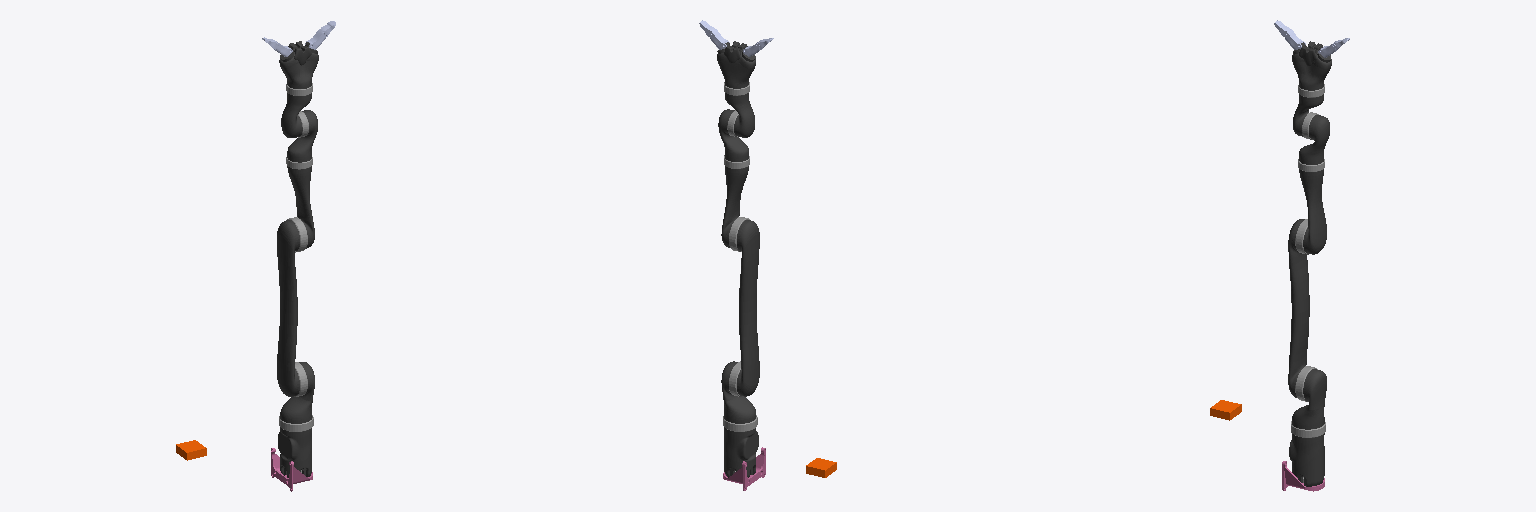
--- Facts derived from the render (not from the file) ---
Views: 3 orthographic renders of the robot side by side, from view 1: azimuth 30°, elevation 25°; view 2: azimuth 150°, elevation 25°; view 3: azimuth 330°, elevation 25°.
Robot: anymal — 36 links, 35 joints (18 revolute, 17 fixed); root link base; default pose: joints at zero except 3 at the middle of their limits (j2s6s200_joint_2 = 3.14, j2s6s200_joint_3 = 3.14, j2s6s200_joint_5 = 3.14).
Visible links, largest first — view 1: j2s6s200_link_2, j2s6s200_link_6, j2s6s200_link_3, j2s6s200_link_base, j2s6s200_link_1, j2s6s200_link_5, j2s6s200_link_4, jaco_front_hatch_support_v2; view 2: j2s6s200_link_2, j2s6s200_link_6, j2s6s200_link_base, j2s6s200_link_3, j2s6s200_link_1, j2s6s200_link_5, j2s6s200_link_4, jaco_front_hatch_support_v2; view 3: j2s6s200_link_2, j2s6s200_link_3, j2s6s200_link_1, j2s6s200_link_6, j2s6s200_link_base, j2s6s200_link_4, j2s6s200_link_5.
Link boxes in pixels (bbox=[...]): j2s6s200_link_2: bbox=[277, 220, 307, 396]; j2s6s200_link_6: bbox=[279, 41, 318, 95]; j2s6s200_link_3: bbox=[286, 166, 314, 252]; j2s6s200_link_base: bbox=[278, 427, 311, 477]; j2s6s200_link_1: bbox=[279, 362, 314, 431]; j2s6s200_link_5: bbox=[281, 93, 311, 137]; j2s6s200_link_4: bbox=[286, 110, 317, 169]; jaco_front_hatch_support_v2: bbox=[271, 448, 312, 491]; j2s6s200_link_2: bbox=[729, 220, 759, 396]; j2s6s200_link_6: bbox=[717, 41, 755, 95]; j2s6s200_link_base: bbox=[724, 427, 758, 477]; j2s6s200_link_3: bbox=[721, 166, 749, 251]; j2s6s200_link_1: bbox=[721, 361, 757, 431]; j2s6s200_link_5: bbox=[725, 93, 754, 137]; j2s6s200_link_4: bbox=[718, 109, 749, 168]; jaco_front_hatch_support_v2: bbox=[723, 447, 765, 490]; j2s6s200_link_2: bbox=[1288, 219, 1317, 401]; j2s6s200_link_3: bbox=[1295, 169, 1326, 254]; j2s6s200_link_1: bbox=[1291, 369, 1326, 437]; j2s6s200_link_6: bbox=[1292, 41, 1331, 97]; j2s6s200_link_base: bbox=[1289, 433, 1324, 486]; j2s6s200_link_4: bbox=[1298, 115, 1329, 171]; j2s6s200_link_5: bbox=[1293, 94, 1323, 139].
Size in the robot's own frame: 0.4211 by 0.1459 by 1.28 metres.
19 mesh visuals loaded from 20 distinct referenced files (13 Collada DAE); not drawn: 17 (reference not matched to a file when rendering).

robot.urdf — anymal:
<?xml version="1.0" ?>
<!-- =================================================================================== -->
<!-- |    This URDF was edited to fix inertias.                                        | -->
<!-- =================================================================================== -->
<!-- This file contains the description of the ANYmal B robot. -->
<robot name="anymal" 
  xmlns:xacro="http://www.ros.org/wiki/xacro">
  <material name="black">
    <color rgba="0.0 0.0 0.0 1.0"/>
  </material>
  <material name="blue">
    <color rgba="0.0 0.0 0.8 1.0"/>
  </material>
  <material name="green">
    <color rgba="0.0 0.8 0.0 1.0"/>
  </material>
  <material name="grey">
    <color rgba="0.2 0.2 0.2 1.0"/>
  </material>
  <material name="light_grey">
    <color rgba="0.4 0.4 0.4 1.0"/>
  </material>
  <material name="orange">
    <color rgba="1.0 0.423529411765 0.0392156862745 1.0"/>
  </material>
  <material name="brown">
    <color rgba="0.870588235294 0.811764705882 0.764705882353 1.0"/>
  </material>
  <material name="red">
    <color rgba="0.8 0.0 0.0 1.0"/>
  </material>
  <material name="white">
    <color rgba="1.0 1.0 1.0 1.0"/>
  </material>
  <!-- Material for the visual primitives -->
  <material name="anymal_material">
    <color rgba="0.7 0.7 0.7 1."/>
  </material>
  <!-- Xacro:Properties -->
  <!-- [m] -->
  <!-- Base link -->
  <link name="base">
    <visual>
      <origin rpy="0 0 0" xyz="0 0 0"/>
      <geometry>
        <mesh filename="package://anymal_b_simple_description/meshes/base/anymal_base.dae" scale="1 1 1"/>
      </geometry>
      <material name="anymal_material"/>
    </visual>
    <collision>
      <!-- Main Body -->
      <origin rpy="0 0 0" xyz="0 0 0.08"/>
      <geometry>
        <box size="0.531 0.27 0.24"/>
      </geometry>
    </collision>
    <collision>
      <!-- HAA actuators -->
      <origin rpy="0 1.57079632679 0" xyz="0.227 0.116 0"/>
      <geometry>
        <cylinder length="0.1" radius="0.05"/>
      </geometry>
    </collision>
    <collision>
      <origin rpy="0 1.57079632679 0" xyz="0.227 -0.116 0"/>
      <geometry>
        <cylinder length="0.1" radius="0.05"/>
      </geometry>
    </collision>
    <collision>
      <origin rpy="0 1.57079632679 0" xyz="-0.227 0.116 0"/>
      <geometry>
        <cylinder length="0.1" radius="0.05"/>
      </geometry>
    </collision>
    <collision>
      <origin rpy="0 1.57079632679 0" xyz="-0.227 -0.116 0"/>
      <geometry>
        <cylinder length="0.1" radius="0.05"/>
      </geometry>
    </collision>
    <collision>
      <!-- Belly plate front bump -->
      <origin rpy="0 0 0" xyz="0.2155 0.0 -0.09"/>
      <geometry>
        <box size="0.1 0.1 0.07"/>
      </geometry>
    </collision>
    <collision>
      <!-- Belly plate hind bump-->
      <origin rpy="0 0 0" xyz="-0.2155 0.0 -0.09"/>
      <geometry>
        <box size="0.1 0.1 0.07"/>
      </geometry>
    </collision>
    <collision>
      <!-- Belly plate middle bump-->
      <origin rpy="0 0 0" xyz="0 0 -0.09"/>
      <geometry>
        <box size="0.531 0.02 0.07"/>
      </geometry>
    </collision>
    <inertial>
      <origin rpy="0 0 0" xyz="-0.001960558279 -0.001413217745 0.050207125344"/>
      <mass value="16.793507758"/>
      <inertia ixx="0.217391101503" ixy="-0.00132873239126" ixz="-0.00228200226173" iyy="0.639432546734" iyz="-0.00138078263145" izz="0.62414077654"/>
    </inertial>
  </link>
  <!-- Fixed joint to add dummy inertia link -->
  <!-- <joint name="base_to_base_inertia" type="fixed">
    <parent link="base"/>
    <child link="base_inertia"/>
    <origin rpy="0 0 0" xyz="0 0 0"/>
  </joint> -->
  <!-- Dummy inertia link, because KDL cannot have inertia on the base link -->
  <!-- <link name="base_inertia">
    <inertial>
      <origin rpy="0 0 0" xyz="-0.001960558279 -0.001413217745 0.050207125344"/>
      <mass value="16.793507758"/>
      <inertia ixx="0.217391101503" ixy="-0.00132873239126" ixz="-0.00228200226173" iyy="0.639432546734" iyz="-0.00138078263145" izz="0.62414077654"/>
    </inertial>
  </link> -->
  <!-- Xacro:Properties -->
  <!-- [kg * m^2] -->
  <!-- [A] -->
  <link name="LF_HIP">
    <visual>
      <origin rpy="0 0 0.0" xyz="0 0 0"/>
      <geometry>
        <mesh filename="package://anymal_b_simple_description/meshes/hip/anymal_hip_l.dae" scale="1 1 1"/>
      </geometry>
      <material name="anymal_material"/>
    </visual>
    <collision>
      <!-- Protector -->
      <origin rpy="1.57079632679 0 0" xyz="0.0635 -0.009 0.0"/>
      <geometry>
        <cylinder length="0.1" radius="0.08"/>
      </geometry>
    </collision>
    <collision>
      <!-- Heatfins -->
      <origin rpy="1.57079632679 0 0" xyz="0.0635 -0.074 0.0"/>
      <geometry>
        <cylinder length="0.03" radius="0.045"/>
      </geometry>
    </collision>
    <inertial>
      <origin rpy="0 0 0" xyz="0.064516258147 -0.003787101702 -0.000152184388"/>
      <mass value="1.42462064"/>
      <inertia ixx="0.00243023349564" ixy="-1.53023971e-05" ixz="-2.1819095354e-05" iyy="0.00230257239103" iyz="2.6473021273e-05" izz="0.0019806759227"/>
    </inertial>
  </link>
  <!-- Hip joint -->
  <joint name="LF_HAA" type="revolute">
    <parent link="base"/>
    <child link="LF_HIP"/>
    <origin xyz="0.277 0.116 0.0"/>
    <axis xyz="1 0 0"/>
    <limit command_effort="40" current="10" effort="80" gear_velocity="10" lower="-9.42" upper="9.42" velocity="15"/>
    <dynamics damping="0.0" friction="0.0"/>
  </joint>
  <!-- Xacro:Properties -->
  <!-- [m] -->
  <!-- [A] -->
  <link name="LF_THIGH">
    <visual>
      <origin rpy="0 0 0" xyz="0 0 0"/>
      <geometry>
        <mesh filename="package://anymal_b_simple_description/meshes/thigh/anymal_thigh.dae" scale="1 1 1"/>
      </geometry>
      <material name="anymal_material"/>
    </visual>
    <collision>
      <!-- thigh with heat fins -->
      <origin rpy="0.145 0 0" xyz="0 0.035 -0.125"/>
      <geometry>
        <box size="0.08 0.04 0.25"/>
      </geometry>
    </collision>
    <collision>
      <!-- KFE actuator -->
      <origin rpy="1.57079632679 0 0" xyz="0.0 0.069 -0.25"/>
      <geometry>
        <cylinder length="0.12" radius="0.06"/>
      </geometry>
    </collision>
    <collision>
      <!-- upper protector -->
      <origin rpy="1.71579632679 0 0" xyz="0 -0.005 0"/>
      <geometry>
        <cylinder length="0.12" radius="0.066"/>
      </geometry>
    </collision>
    <inertial>
      <origin rpy="0 0 0" xyz="-0.003897968082 0.054226618537 -0.214583373795"/>
      <mass value="1.634976467"/>
      <inertia ixx="0.0120367944369" ixy="6.762065206e-05" ixz="0.000287806340448" iyy="0.0120643637939" iyz="-0.00140610131218" izz="0.00249422574881"/>
    </inertial>
  </link>
  <!-- Thigh joint -->
  <joint name="LF_HFE" type="revolute">
    <parent link="LF_HIP"/>
    <child link="LF_THIGH"/>
    <origin xyz="0.0635                    0.041                    0.0"/>
    <axis xyz="0 1 0"/>
    <limit command_effort="40" current="10" effort="80" gear_velocity="10" lower="-9.42" upper="9.42" velocity="15.0"/>
    <dynamics damping="0.0" friction="0.0"/>
  </joint>
  <!-- Xacro:Properties -->
  <!-- [m] -->
  <!-- [A] -->
  <link name="LF_SHANK">
    <visual>
      <origin rpy="0 0 0.0" xyz="0 0 0"/>
      <geometry>
        <mesh filename="package://anymal_b_simple_description/meshes/shank/anymal_shank_l.dae" scale="1 1 1"/>
      </geometry>
      <material name="anymal_material"/>
    </visual>
    <collision>
      <origin rpy="0 1.57079632679 0" xyz="0.065 -0.015 0.01"/>
      <geometry>
        <box size="0.08 0.07 0.13"/>
      </geometry>
    </collision>
    <inertial>
      <origin rpy="0 0 0" xyz="0.030816858139 -0.004617229294 0.000893125713"/>
      <mass value="0.207204302"/>
      <inertia ixx="0.0002104880248" ixy="-5.6750980345e-05" ixz="1.0127699391e-05" iyy="0.000676270210023" iyz="-8.22869024e-07" izz="0.000545032674924"/>
    </inertial>
  </link>
  <!-- Shank joint -->
  <joint name="LF_KFE" type="revolute">
    <parent link="LF_THIGH"/>
    <child link="LF_SHANK"/>
    <origin xyz="0.0 0.109 -0.25"/>
    <axis xyz="0 1 0"/>
    <limit command_effort="40" current="10" effort="80" gear_velocity="10" lower="-9.42" upper="9.42" velocity="15.0"/>
    <dynamics damping="0.0" friction="0.0"/>
  </joint>
  <!-- Xacro:Properties -->
  <!-- [m] -->
  <!-- Shank to Adapter joint -->
  <joint name="LF_SHANK_TO_ADAPTER" type="fixed">
    <parent link="LF_SHANK"/>
    <child link="LF_ADAPTER"/>
    <origin rpy="0.0 0.0 0.0" xyz="0.1 -0.02 0.0"/>
  </joint>
  <!-- Adapter link -->
  <link name="LF_ADAPTER">
    <visual>
      <origin rpy="0 0 0" xyz="0 0 0.032"/>
      <geometry>
        <mesh filename="package://anymal_b_simple_description/meshes/foot/anymal_foot.dae" scale="1 1 1"/>
      </geometry>
      <material name="anymal_material"/>
    </visual>
    <collision>
      <origin rpy="0 0 0" xyz="0 0 -0.160625"/>
      <geometry>
        <cylinder length="0.32125" radius="0.015"/>
      </geometry>
      <material name="anymal_material"/>
    </collision>
    <inertial>
      <origin rpy="0 0 0" xyz="-8.66e-10 -1.472e-09 -0.244345749188"/>
      <mass value="0.140170767"/>
      <inertia ixx="0.00159938741862" ixy="-9.32e-13" ixz="1.039e-11" iyy="0.00159938741932" iyz="1.7563e-11" izz="5.4423177329e-05"/>
    </inertial>
  </link>
  <!-- Adapter to Foot joint -->
  <joint name="LF_ADAPTER_TO_FOOT" type="fixed">
    <parent link="LF_ADAPTER"/>
    <child link="LF_FOOT"/>
    <origin rpy="0.0 0.0 0.0" xyz="0.0 0.0 -0.32125"/>
  </joint>
  <!-- Foot link -->
  <link name="LF_FOOT">
    <collision>
      <origin xyz="0 0 0.02325"/>
      <geometry>
        <sphere radius="0.031"/>
      </geometry>
    </collision>
    <inertial>
      <mass value="0.001"/>
      <inertia ixx="4.90e-07" ixy="0.0" ixz="0.0" iyy="4.90e-07" iyz="0.0" izz="4.90e-07"/>
      <!-- for a sphere: 2/5 m * r**2 -->
    </inertial>
    <!-- Bullet specific parameters -->
    <contact>
      <lateral_friction value="1.0"/>
      <stiffness value="300000"/>
      <damping value="15000"/>
      <!--<restitution value="0.5"/>-->
    </contact>
  </link>
  <!-- Gazebo customization -->
  <gazebo reference="LF_FOOT">
    <kp>1000000.0</kp>
    <kd>100.0</kd>
    <mu1>0.8</mu1>
    <mu2>0.8</mu2>
  </gazebo>
  <!-- Xacro:Properties -->
  <!-- [kg * m^2] -->
  <!-- [A] -->
  <link name="RF_HIP">
    <visual>
      <origin rpy="0 0 0" xyz="0 0 0"/>
      <geometry>
        <mesh filename="package://anymal_b_simple_description/meshes/hip/anymal_hip_r.dae" scale="1 1 1"/>
      </geometry>
      <material name="anymal_material"/>
    </visual>
    <collision>
      <!-- Protector -->
      <origin rpy="1.57079632679 0 0" xyz="0.0635 0.009 0.0"/>
      <geometry>
        <cylinder length="0.1" radius="0.08"/>
      </geometry>
    </collision>
    <collision>
      <!-- Heatfins -->
      <origin rpy="1.57079632679 0 0" xyz="0.0635 0.074 0.0"/>
      <geometry>
        <cylinder length="0.03" radius="0.045"/>
      </geometry>
    </collision>
    <inertial>
      <origin rpy="0 0 0" xyz="0.064516258147 0.003787101702 -0.000152184388"/>
      <mass value="1.42462064"/>
      <inertia ixx="0.00243023349564" ixy="1.53023971e-05" ixz="-2.1819095354e-05" iyy="0.00230257239103" iyz="-2.6473021273e-05" izz="0.0019806759227"/>
    </inertial>
  </link>
  <!-- Hip joint -->
  <joint name="RF_HAA" type="revolute">
    <parent link="base"/>
    <child link="RF_HIP"/>
    <origin xyz="0.277 -0.116 0.0"/>
    <axis xyz="1 0 0"/>
    <limit command_effort="40" current="10" effort="80" gear_velocity="10" lower="-9.42" upper="9.42" velocity="15"/>
    <dynamics damping="0.0" friction="0.0"/>
  </joint>
  <!-- Xacro:Properties -->
  <!-- [m] -->
  <!-- [A] -->
  <link name="RF_THIGH">
    <visual>
      <origin rpy="3.1416 3.1416 0.0" xyz="0 0 0"/>
      <geometry>
        <mesh filename="package://anymal_b_simple_description/meshes/thigh/anymal_thigh.dae" scale="1 1 1"/>
      </geometry>
      <material name="anymal_material"/>
    </visual>
    <collision>
      <!-- thigh with heat fins -->
      <origin rpy="-0.145 0 0" xyz="0 -0.035 -0.125"/>
      <geometry>
        <box size="0.08 0.04 0.25"/>
      </geometry>
    </collision>
    <collision>
      <!-- KFE actuator -->
      <origin rpy="1.57079632679 0 0" xyz="0.0 -0.069 -0.25"/>
      <geometry>
        <cylinder length="0.12" radius="0.06"/>
      </geometry>
    </collision>
    <collision>
      <!-- upper protector -->
      <origin rpy="-1.71579632679 0 0" xyz="0 0.005 0"/>
      <geometry>
        <cylinder length="0.12" radius="0.066"/>
      </geometry>
    </collision>
    <inertial>
      <origin rpy="0 0 0" xyz="-0.003897968082 -0.054226618537 -0.214583373795"/>
      <mass value="1.634976467"/>
      <inertia ixx="0.0120367944369" ixy="-6.762065206e-05" ixz="0.000287806340448" iyy="0.0120643637939" iyz="0.00140610131218" izz="0.00249422574881"/>
    </inertial>
  </link>
  <!-- Thigh joint -->
  <joint name="RF_HFE" type="revolute">
    <parent link="RF_HIP"/>
    <child link="RF_THIGH"/>
    <origin xyz="0.0635                    -0.041                    0.0"/>
    <axis xyz="0 1 0"/>
    <limit command_effort="40" current="10" effort="80" gear_velocity="10" lower="-9.42" upper="9.42" velocity="15.0"/>
    <dynamics damping="0.0" friction="0.0"/>
  </joint>
  <!-- Xacro:Properties -->
  <!-- [m] -->
  <!-- [A] -->
  <link name="RF_SHANK">
    <visual>
      <origin rpy="0 0 0.0" xyz="0 0 0"/>
      <geometry>
        <mesh filename="package://anymal_b_simple_description/meshes/shank/anymal_shank_r.dae" scale="1 1 1"/>
      </geometry>
      <material name="anymal_material"/>
    </visual>
    <collision>
      <origin rpy="0 1.57079632679 0" xyz="0.065 0.015 0.01"/>
      <geometry>
        <box size="0.08 0.07 0.13"/>
      </geometry>
    </collision>
    <inertial>
      <origin rpy="0 0 0" xyz="0.030816858139 0.004617229294 0.000893125713"/>
      <mass value="0.207204302"/>
      <inertia ixx="0.0002104880248" ixy="5.6750980345e-05" ixz="1.0127699391e-05" iyy="0.000676270210023" iyz="8.22869024e-07" izz="0.000545032674924"/>
    </inertial>
  </link>
  <!-- Shank joint -->
  <joint name="RF_KFE" type="revolute">
    <parent link="RF_THIGH"/>
    <child link="RF_SHANK"/>
    <origin xyz="0.0 -0.109 -0.25"/>
    <axis xyz="0 1 0"/>
    <limit command_effort="40" current="10" effort="80" gear_velocity="10" lower="-9.42" upper="9.42" velocity="15.0"/>
    <dynamics damping="0.0" friction="0.0"/>
  </joint>
  <!-- Xacro:Properties -->
  <!-- [m] -->
  <!-- Shank to Adapter joint -->
  <joint name="RF_SHANK_TO_ADAPTER" type="fixed">
    <parent link="RF_SHANK"/>
    <child link="RF_ADAPTER"/>
    <origin rpy="-0.0 0.0 -0.0" xyz="0.1 0.02 0.0"/>
  </joint>
  <!-- Adapter link -->
  <link name="RF_ADAPTER">
    <visual>
      <origin rpy="0 0 0" xyz="0 0 0.032"/>
      <geometry>
        <mesh filename="package://anymal_b_simple_description/meshes/foot/anymal_foot.dae" scale="1 1 1"/>
      </geometry>
      <material name="anymal_material"/>
    </visual>
    <collision>
      <origin rpy="0 0 0" xyz="0 0 -0.160625"/>
      <geometry>
        <cylinder length="0.32125" radius="0.015"/>
      </geometry>
      <material name="anymal_material"/>
    </collision>
    <inertial>
      <origin rpy="0 0 0" xyz="-8.66e-10 -1.472e-09 -0.244345749188"/>
      <mass value="0.140170767"/>
      <inertia ixx="0.00159938741862" ixy="-9.32e-13" ixz="1.039e-11" iyy="0.00159938741932" iyz="1.7563e-11" izz="5.4423177329e-05"/>
    </inertial>
  </link>
  <!-- Adapter to Foot joint -->
  <joint name="RF_ADAPTER_TO_FOOT" type="fixed">
    <parent link="RF_ADAPTER"/>
    <child link="RF_FOOT"/>
    <origin rpy="-0.0 0.0 -0.0" xyz="0.0 -0.0 -0.32125"/>
  </joint>
  <!-- Foot link -->
  <link name="RF_FOOT">
    <collision>
      <origin xyz="0 0 0.02325"/>
      <geometry>
        <sphere radius="0.031"/>
      </geometry>
    </collision>
    <inertial>
      <mass value="0.001"/>
      <inertia ixx="4.90e-07" ixy="0.0" ixz="0.0" iyy="4.90e-07" iyz="0.0" izz="4.90e-07"/>
      <!-- for a sphere: 2/5 m * r**2 -->
    </inertial>
    <!-- Bullet specific parameters -->
    <contact>
      <lateral_friction value="1.0"/>
      <stiffness value="300000"/>
      <damping value="15000"/>
      <!--<restitution value="0.5"/>-->
    </contact>
  </link>
  <!-- Gazebo customization -->
  <gazebo reference="RF_FOOT">
    <kp>1000000.0</kp>
    <kd>100.0</kd>
    <mu1>0.8</mu1>
    <mu2>0.8</mu2>
  </gazebo>
  <!-- Xacro:Properties -->
  <!-- [kg * m^2] -->
  <!-- [A] -->
  <link name="LH_HIP">
    <visual>
      <origin rpy="0 0 -3.14159265359" xyz="0 0 0"/>
      <geometry>
        <mesh filename="package://anymal_b_simple_description/meshes/hip/anymal_hip_r.dae" scale="1 1 1"/>
      </geometry>
      <material name="anymal_material"/>
    </visual>
    <collision>
      <!-- Protector -->
      <origin rpy="-1.57079632679 0 0" xyz="-0.0635 -0.009 0.0"/>
      <geometry>
        <cylinder length="0.1" radius="0.08"/>
      </geometry>
    </collision>
    <collision>
      <!-- Heatfins -->
      <origin rpy="-1.57079632679 0 0" xyz="-0.0635 -0.074 0.0"/>
      <geometry>
        <cylinder length="0.03" radius="0.045"/>
      </geometry>
    </collision>
    <inertial>
      <origin rpy="0 0 0" xyz="-0.064516258147 -0.003787101702 -0.000152184388"/>
      <mass value="1.42462064"/>
      <inertia ixx="0.00243023349564" ixy="1.53023971e-05" ixz="2.1819095354e-05" iyy="0.00230257239103" iyz="2.6473021273e-05" izz="0.0019806759227"/>
    </inertial>
  </link>
  <!-- Hip joint -->
  <joint name="LH_HAA" type="revolute">
    <parent link="base"/>
    <child link="LH_HIP"/>
    <origin xyz="-0.277 0.116 0.0"/>
    <axis xyz="1 0 0"/>
    <limit command_effort="40" current="10" effort="80" gear_velocity="10" lower="-9.42" upper="9.42" velocity="15"/>
    <dynamics damping="0.0" friction="0.0"/>
  </joint>
  <!-- Xacro:Properties -->
  <!-- [m] -->
  <!-- [A] -->
  <link name="LH_THIGH">
    <visual>
      <origin rpy="0 0 0" xyz="0 0 0"/>
      <geometry>
        <mesh filename="package://anymal_b_simple_description/meshes/thigh/anymal_thigh.dae" scale="1 1 1"/>
      </geometry>
      <material name="anymal_material"/>
    </visual>
    <collision>
      <!-- thigh with heat fins -->
      <origin rpy="0.145 0 0" xyz="0 0.035 -0.125"/>
      <geometry>
        <box size="0.08 0.04 0.25"/>
      </geometry>
    </collision>
    <collision>
      <!-- KFE actuator -->
      <origin rpy="1.57079632679 0 0" xyz="0.0 0.069 -0.25"/>
      <geometry>
        <cylinder length="0.12" radius="0.06"/>
      </geometry>
    </collision>
    <collision>
      <!-- upper protector -->
      <origin rpy="1.71579632679 0 0" xyz="0 -0.005 0"/>
      <geometry>
        <cylinder length="0.12" radius="0.066"/>
      </geometry>
    </collision>
    <inertial>
      <origin rpy="0 0 0" xyz="0.003897968082 0.054226618537 -0.214583373795"/>
      <mass value="1.634976467"/>
      <inertia ixx="0.0120367944369" ixy="-6.762065206e-05" ixz="-0.000287806340448" iyy="0.0120643637939" iyz="-0.00140610131218" izz="0.00249422574881"/>
    </inertial>
  </link>
  <!-- Thigh joint -->
  <joint name="LH_HFE" type="revolute">
    <parent link="LH_HIP"/>
    <child link="LH_THIGH"/>
    <origin xyz="-0.0635                    0.041                    0.0"/>
    <axis xyz="0 1 0"/>
    <limit command_effort="40" current="10" effort="80" gear_velocity="10" lower="-9.42" upper="9.42" velocity="15.0"/>
    <dynamics damping="0.0" friction="0.0"/>
  </joint>
  <!-- Xacro:Properties -->
  <!-- [m] -->
  <!-- [A] -->
  <link name="LH_SHANK">
    <visual>
      <origin rpy="0 0 -3.14159265359" xyz="0 0 0"/>
      <geometry>
        <mesh filename="package://anymal_b_simple_description/meshes/shank/anymal_shank_r.dae" scale="1 1 1"/>
      </geometry>
      <material name="anymal_material"/>
    </visual>
    <collision>
      <origin rpy="0 1.57079632679 0" xyz="-0.065 -0.015 0.01"/>
      <geometry>
        <box size="0.08 0.07 0.13"/>
      </geometry>
    </collision>
    <inertial>
      <origin rpy="0 0 0" xyz="-0.030816858139 -0.004617229294 0.000893125713"/>
      <mass value="0.207204302"/>
      <inertia ixx="0.0002104880248" ixy="5.6750980345e-05" ixz="-1.0127699391e-05" iyy="0.000676270210023" iyz="-8.22869024e-07" izz="0.000545032674924"/>
    </inertial>
  </link>
  <!-- Shank joint -->
  <joint name="LH_KFE" type="revolute">
    <parent link="LH_THIGH"/>
    <child link="LH_SHANK"/>
    <origin xyz="-0.0 0.109 -0.25"/>
    <axis xyz="0 1 0"/>
    <limit command_effort="40" current="10" effort="80" gear_velocity="10" lower="-9.42" upper="9.42" velocity="15.0"/>
    <dynamics damping="0.0" friction="0.0"/>
  </joint>
  <!-- Xacro:Properties -->
  <!-- [m] -->
  <!-- Shank to Adapter joint -->
  <joint name="LH_SHANK_TO_ADAPTER" type="fixed">
    <parent link="LH_SHANK"/>
    <child link="LH_ADAPTER"/>
    <origin rpy="0.0 -0.0 -0.0" xyz="-0.1 -0.02 0.0"/>
  </joint>
  <!-- Adapter link -->
  <link name="LH_ADAPTER">
    <visual>
      <origin rpy="0 0 -3.14159265359" xyz="0 0 0.032"/>
      <geometry>
        <mesh filename="package://anymal_b_simple_description/meshes/foot/anymal_foot.dae" scale="1 1 1"/>
      </geometry>
      <material name="anymal_material"/>
    </visual>
    <collision>
      <origin rpy="0 0 0" xyz="0 0 -0.160625"/>
      <geometry>
        <cylinder length="0.32125" radius="0.015"/>
      </geometry>
      <material name="anymal_material"/>
    </collision>
    <inertial>
      <origin rpy="0 0 0" xyz="-8.66e-10 -1.472e-09 -0.244345749188"/>
      <mass value="0.140170767"/>
      <inertia ixx="0.00159938741862" ixy="-9.32e-13" ixz="1.039e-11" iyy="0.00159938741932" iyz="1.7563e-11" izz="5.4423177329e-05"/>
    </inertial>
  </link>
  <!-- Adapter to Foot joint -->
  <joint name="LH_ADAPTER_TO_FOOT" type="fixed">
    <parent link="LH_ADAPTER"/>
    <child link="LH_FOOT"/>
    <origin rpy="0.0 -0.0 -0.0" xyz="-0.0 0.0 -0.32125"/>
  </joint>
  <!-- Foot link -->
  <link name="LH_FOOT">
    <collision>
      <origin xyz="0 0 0.02325"/>
      <geometry>
        <sphere radius="0.031"/>
      </geometry>
    </collision>
    <inertial>
      <mass value="0.001"/>
      <inertia ixx="4.90e-07" ixy="0.0" ixz="0.0" iyy="4.90e-07" iyz="0.0" izz="4.90e-07"/>
      <!-- for a sphere: 2/5 m * r**2 -->
    </inertial>
    <!-- Bullet specific parameters -->
    <contact>
      <lateral_friction value="1.0"/>
      <stiffness value="300000"/>
      <damping value="15000"/>
      <!--<restitution value="0.5"/>-->
    </contact>
  </link>
  <!-- Gazebo customization -->
  <gazebo reference="LH_FOOT">
    <kp>1000000.0</kp>
    <kd>100.0</kd>
    <mu1>0.8</mu1>
    <mu2>0.8</mu2>
  </gazebo>
  <!-- Xacro:Properties -->
  <!-- [kg * m^2] -->
  <!-- [A] -->
  <link name="RH_HIP">
    <visual>
      <origin rpy="0 0 -3.14159265359" xyz="0 0 0"/>
      <geometry>
        <mesh filename="package://anymal_b_simple_description/meshes/hip/anymal_hip_l.dae" scale="1 1 1"/>
      </geometry>
      <material name="anymal_material"/>
    </visual>
    <collision>
      <!-- Protector -->
      <origin rpy="-1.57079632679 0 0" xyz="-0.0635 0.009 0.0"/>
      <geometry>
        <cylinder length="0.1" radius="0.08"/>
      </geometry>
    </collision>
    <collision>
      <!-- Heatfins -->
      <origin rpy="-1.57079632679 0 0" xyz="-0.0635 0.074 0.0"/>
      <geometry>
        <cylinder length="0.03" radius="0.045"/>
      </geometry>
    </collision>
    <inertial>
      <origin rpy="0 0 0" xyz="-0.064516258147 0.003787101702 -0.000152184388"/>
      <mass value="1.42462064"/>
      <inertia ixx="0.00243023349564" ixy="-1.53023971e-05" ixz="2.1819095354e-05" iyy="0.00230257239103" iyz="-2.6473021273e-05" izz="0.0019806759227"/>
    </inertial>
  </link>
  <!-- Hip joint -->
  <joint name="RH_HAA" type="revolute">
    <parent link="base"/>
    <child link="RH_HIP"/>
    <origin xyz="-0.277 -0.116 0.0"/>
    <axis xyz="1 0 0"/>
    <limit command_effort="40" current="10" effort="80" gear_velocity="10" lower="-9.42" upper="9.42" velocity="15"/>
    <dynamics damping="0.0" friction="0.0"/>
  </joint>
  <!-- Xacro:Properties -->
  <!-- [m] -->
  <!-- [A] -->
  <link name="RH_THIGH">
    <visual>
      <origin rpy="0 0 -3.14159265359" xyz="0 0 0"/>
      <geometry>
        <mesh filename="package://anymal_b_simple_description/meshes/thigh/anymal_thigh.dae" scale="1 1 1"/>
      </geometry>
      <material name="anymal_material"/>
    </visual>
    <collision>
      <!-- thigh with heat fins -->
      <origin rpy="-0.145 0 0" xyz="0 -0.035 -0.125"/>
      <geometry>
        <box size="0.08 0.04 0.25"/>
      </geometry>
    </collision>
    <collision>
      <!-- KFE actuator -->
      <origin rpy="1.57079632679 0 0" xyz="0.0 -0.069 -0.25"/>
      <geometry>
        <cylinder length="0.12" radius="0.06"/>
      </geometry>
    </collision>
    <collision>
      <!-- upper protector -->
      <origin rpy="-1.71579632679 0 0" xyz="0 0.005 0"/>
      <geometry>
        <cylinder length="0.12" radius="0.066"/>
      </geometry>
    </collision>
    <inertial>
      <origin rpy="0 0 0" xyz="0.003897968082 -0.054226618537 -0.214583373795"/>
      <mass value="1.634976467"/>
      <inertia ixx="0.0120367944369" ixy="6.762065206e-05" ixz="-0.000287806340448" iyy="0.0120643637939" iyz="0.00140610131218" izz="0.00249422574881"/>
    </inertial>
  </link>
  <!-- Thigh joint -->
  <joint name="RH_HFE" type="revolute">
    <parent link="RH_HIP"/>
    <child link="RH_THIGH"/>
    <origin xyz="-0.0635                    -0.041                    0.0"/>
    <axis xyz="0 1 0"/>
    <limit command_effort="40" current="10" effort="80" gear_velocity="10" lower="-9.42" upper="9.42" velocity="15.0"/>
    <dynamics damping="0.0" friction="0.0"/>
  </joint>
  <!-- Xacro:Properties -->
  <!-- [m] -->
  <!-- [A] -->
  <link name="RH_SHANK">
    <visual>
      <origin rpy="0 0 -3.14159265359" xyz="0 0 0"/>
      <geometry>
        <mesh filename="package://anymal_b_simple_description/meshes/shank/anymal_shank_l.dae" scale="1 1 1"/>
      </geometry>
      <material name="anymal_material"/>
    </visual>
    <collision>
      <origin rpy="0 1.57079632679 0" xyz="-0.065 0.015 0.01"/>
      <geometry>
        <box size="0.08 0.07 0.13"/>
      </geometry>
    </collision>
    <inertial>
      <origin rpy="0 0 0" xyz="-0.030816858139 0.004617229294 0.000893125713"/>
      <mass value="0.207204302"/>
      <inertia ixx="0.0002104880248" ixy="-5.6750980345e-05" ixz="-1.0127699391e-05" iyy="0.000676270210023" iyz="8.22869024e-07" izz="0.000545032674924"/>
    </inertial>
  </link>
  <!-- Shank joint -->
  <joint name="RH_KFE" type="revolute">
    <parent link="RH_THIGH"/>
    <child link="RH_SHANK"/>
    <origin xyz="-0.0 -0.109 -0.25"/>
    <axis xyz="0 1 0"/>
    <limit command_effort="40" current="10" effort="80" gear_velocity="10" lower="-9.42" upper="9.42" velocity="15.0"/>
    <dynamics damping="0.0" friction="0.0"/>
  </joint>
  <!-- Xacro:Properties -->
  <!-- [m] -->
  <!-- Shank to Adapter joint -->
  <joint name="RH_SHANK_TO_ADAPTER" type="fixed">
    <parent link="RH_SHANK"/>
    <child link="RH_ADAPTER"/>
    <origin rpy="-0.0 -0.0 0.0" xyz="-0.1 0.02 0.0"/>
  </joint>
  <!-- Adapter link -->
  <link name="RH_ADAPTER">
    <visual>
      <origin rpy="0 0 -3.14159265359" xyz="0 0 0.032"/>
      <geometry>
        <mesh filename="package://anymal_b_simple_description/meshes/foot/anymal_foot.dae" scale="1 1 1"/>
      </geometry>
      <material name="anymal_material"/>
    </visual>
    <collision>
      <origin rpy="0 0 0" xyz="0 0 -0.160625"/>
      <geometry>
        <cylinder length="0.32125" radius="0.015"/>
      </geometry>
      <material name="anymal_material"/>
    </collision>
    <inertial>
      <origin rpy="0 0 0" xyz="-8.66e-10 -1.472e-09 -0.244345749188"/>
      <mass value="0.140170767"/>
      <inertia ixx="0.00159938741862" ixy="-9.32e-13" ixz="1.039e-11" iyy="0.00159938741932" iyz="1.7563e-11" izz="5.4423177329e-05"/>
    </inertial>
  </link>
  <!-- Adapter to Foot joint -->
  <joint name="RH_ADAPTER_TO_FOOT" type="fixed">
    <parent link="RH_ADAPTER"/>
    <child link="RH_FOOT"/>
    <origin rpy="-0.0 -0.0 0.0" xyz="-0.0 -0.0 -0.32125"/>
  </joint>
  <!-- Foot link -->
  <link name="RH_FOOT">
    <collision>
      <origin xyz="0 0 0.02325"/>
      <geometry>
        <sphere radius="0.031"/>
      </geometry>
    </collision>
    <inertial>
      <mass value="0.001"/>
      <inertia ixx="4.90e-07" ixy="0.0" ixz="0.0" iyy="4.90e-07" iyz="0.0" izz="4.90e-07"/>
      <!-- for a sphere: 2/5 m * r**2 -->
    </inertial>
    <!-- Bullet specific parameters -->
    <contact>
      <lateral_friction value="1.0"/>
      <stiffness value="300000"/>
      <damping value="15000"/>
      <!--<restitution value="0.5"/>-->
    </contact>
  </link>
  <!-- Gazebo customization -->
  <gazebo reference="RH_FOOT">
    <kp>1000000.0</kp>
    <kd>100.0</kd>
    <mu1>0.8</mu1>
    <mu2>0.8</mu2>
  </gazebo>
  <link name="imu_link">
    <visual>
      <origin rpy="0 0 0" xyz="0 0 0.011"/>
      <geometry>
        <box size="0.058 0.058 0.022"/>
      </geometry>
      <material name="orange"/>
    </visual>
    <collision>
      <origin rpy="0 0 0" xyz="0 0 0.011"/>
      <geometry>
        <box size="0.058 0.058 0.022"/>
      </geometry>
    </collision>
    <inertial>
      <mass value="0.05"/>
      <origin xyz="0 0 0"/>
      <inertia ixx="1.60333333333e-05" ixy="0.0" ixz="0.0" iyy="2.80333333333e-05" iyz="0.0" izz="1.60333333333e-05"/>
    </inertial>
  </link>
  <joint name="imu_joint" type="fixed">
    <parent link="base"/>
    <child link="imu_link"/>
    <origin rpy="0 3.14159265359 0" xyz="0.038 0.06245 0.1837"/>
  </joint>

  <link name="jaco_front_hatch_support_v2">
    <!-- TODO: Proper inertia -->
    <inertial>
      <mass value="0.205"/>
      <inertia ixx="4.90e-07" ixy="0.0" ixz="0.0" iyy="4.90e-07" iyz="0.0" izz="4.90e-07"/>
      <!-- for a sphere: 2/5 m * r**2 -->
    </inertial>
    <visual>
      <geometry>
        <mesh filename="package://kinova_description/meshes/jaco_front_hatch_support_v2.dae"/>
      </geometry>
    </visual>
    <collision>
      <origin xyz="0 0 0.02325"/>
      <geometry>
        <sphere radius="0.031"/>
      </geometry>
    </collision>
  </link>
  <joint name="base_to_jaco_support" type="fixed">
    <parent link="base"/>
    <child link="jaco_front_hatch_support_v2"/>
    <origin rpy="0 0 0" xyz="0.2692 0.00 0.06713"/>
  </joint>

  <link name="jaco_mounting_block">
    <!-- TODO: Proper inertia -->
    <inertial>
      <mass value="0.1741"/><!-- Volume = 0.000064 m^3; aluminium density (alloy 6061) = 2720 kg/m^3 -->
      <inertia ixx="4.90e-07" ixy="0.0" ixz="0.0" iyy="4.90e-07" iyz="0.0" izz="4.90e-07"/>
      <!-- for a sphere: 2/5 m * r**2 -->
    </inertial>
    <visual>
      <geometry>
        <mesh filename="package://kinova_description/meshes/jaco_mounting_block.dae"/>
      </geometry>
    </visual>
    <collision>
      <origin xyz="0 0 0.02325"/>
      <geometry>
        <sphere radius="0.031"/>
      </geometry>
    </collision>
  </link>
  <joint name="jaco_support_to_jaco_mounting_block" type="fixed">
    <parent link="jaco_front_hatch_support_v2"/>
    <child link="jaco_mounting_block"/>
    <origin rpy="0 0 0" xyz="0.045 0.00 -0.007626"/>
  </joint>

  <link name="j2s6s200_link_base">
    <visual>
      <geometry>
        <mesh filename="package://kinova_description/meshes/base.dae"/>
      </geometry>
      <material name="carbon_fiber">
        <color rgba="0.3 0.3 0.3 1"/>
      </material>
    </visual>
    <collision>
      <geometry>
        <mesh filename="package://kinova_description/meshes/base.dae"/>
      </geometry>
    </collision>
    <inertial>
      <mass value="0.46784"/>
      <origin rpy="0 0 0" xyz="0 0 0.1255"/>
      <inertia ixx="0.000951270861568" ixy="0" ixz="0" iyy="0.000951270861568" iyz="0" izz="0.000374272"/>
    </inertial>
  </link>
  <joint name="jaco_mounting_block_to_j2s6s200_link_base" type="fixed">
    <parent link="jaco_mounting_block"/>
    <child link="j2s6s200_link_base"/>
    <axis xyz="0 0 0"/>
    <limit effort="0" lower="0" upper="0" velocity="0"/>
    <origin rpy="0 0 1.57079632679" xyz="0.000 0.000 0.000"/>
    <dynamics damping="0.0" friction="0.0"/>
  </joint>
  <link name="j2s6s200_link_1">
    <visual>
      <geometry>
        <mesh filename="package://kinova_description/meshes/shoulder.dae"/>
      </geometry>
      <material name="carbon_fiber">
        <color rgba="0.3 0.3 0.3 1"/>
      </material>
    </visual>
    <visual>
      <geometry>
        <mesh filename="package://kinova_description/meshes/ring_big.dae"/>
      </geometry>
    </visual>
    <collision>
      <geometry>
        <mesh filename="package://kinova_description/meshes/shoulder.dae"/>
      </geometry>
    </collision>
    <inertial>
      <mass value="0.7477"/>
      <origin xyz="0 -0.002 -0.0605"/>
      <inertia ixx="0.00152031725204" ixy="0" ixz="0" iyy="0.00152031725204" iyz="0" izz="0.00059816"/>
    </inertial>
  </link>
  <joint name="j2s6s200_joint_1" type="revolute"><!-- continuous -->
    <parent link="j2s6s200_link_base"/>
    <child link="j2s6s200_link_1"/>
    <axis xyz="0 0 1"/>
    <limit effort="40" lower="-6.28318530718" upper="6.28318530718" velocity="0.628318530718"/>
    <origin rpy="0 3.14159265359 0" xyz="0 0 0.15675"/>
    <dynamics damping="0.0" friction="0.0"/>
  </joint>
  <transmission name="j2s6s200_joint_1_trans">
    <type>transmission_interface/SimpleTransmission</type>
    <joint name="j2s6s200_joint_1">
      <hardwareInterface>hardware_interface/EffortJointInterface</hardwareInterface>
    </joint>
    <actuator name="j2s6s200_joint_1_actuator">
      <hardwareInterface>hardware_interface/EffortJointInterface</hardwareInterface>
      <mechanicalReduction>160</mechanicalReduction>
    </actuator>
  </transmission>
  <link name="j2s6s200_link_2">
    <visual>
      <geometry>
        <mesh filename="package://kinova_description/meshes/arm.dae"/>
      </geometry>
      <material name="carbon_fiber">
        <color rgba="0.3 0.3 0.3 1"/>
      </material>
    </visual>
    <visual>
      <geometry>
        <mesh filename="package://kinova_description/meshes/ring_big.dae"/>
      </geometry>
    </visual>
    <collision>
      <geometry>
        <mesh filename="package://kinova_description/meshes/arm.dae"/>
      </geometry>
    </collision>
    <inertial>
      <mass value="0.99"/>
      <origin xyz="0 -0.2065 -0.01"/>
      <inertia ixx="0.010502207991" ixy="0" ixz="0" iyy="0.000792" iyz="0" izz="0.010502207991"/>
    </inertial>
  </link>
  <joint name="j2s6s200_joint_2" type="revolute">
    <parent link="j2s6s200_link_1"/>
    <child link="j2s6s200_link_2"/>
    <axis xyz="0 0 1"/>
    <limit effort="80" lower="0.820304748437" upper="5.46288055874" velocity="0.628318530718"/>
    <origin rpy="-1.57079632679 0 3.14159265359" xyz="0 0.0016 -0.11875"/>
    <dynamics damping="0.0" friction="0.0"/>
  </joint>
  <transmission name="j2s6s200_joint_2_trans">
    <type>transmission_interface/SimpleTransmission</type>
    <joint name="j2s6s200_joint_2">
      <hardwareInterface>hardware_interface/EffortJointInterface</hardwareInterface>
    </joint>
    <actuator name="j2s6s200_joint_2_actuator">
      <hardwareInterface>hardware_interface/EffortJointInterface</hardwareInterface>
      <mechanicalReduction>160</mechanicalReduction>
    </actuator>
  </transmission>
  <link name="j2s6s200_link_3">
    <visual>
      <geometry>
        <mesh filename="package://kinova_description/meshes/forearm.dae"/>
      </geometry>
      <material name="carbon_fiber">
        <color rgba="0.3 0.3 0.3 1"/>
      </material>
    </visual>
    <visual>
      <geometry>
        <mesh filename="package://kinova_description/meshes/ring_big.dae"/>
      </geometry>
    </visual>
    <collision>
      <geometry>
        <mesh filename="package://kinova_description/meshes/forearm.dae"/>
      </geometry>
    </collision>
    <inertial>
      <mass value="0.6763"/>
      <origin xyz="0 0.081 -0.0086"/>
      <inertia ixx="0.00142022431908" ixy="0" ixz="0" iyy="0.000304335" iyz="0" izz="0.00142022431908"/>
    </inertial>
  </link>
  <joint name="j2s6s200_joint_3" type="revolute">
    <parent link="j2s6s200_link_2"/>
    <child link="j2s6s200_link_3"/>
    <axis xyz="0 0 1"/>
    <limit effort="40" lower="0.331612557879" upper="5.9515727493" velocity="0.628318530718"/>
    <origin rpy="0 3.14159265359 0" xyz="0 -0.410 0"/>
    <dynamics damping="0.0" friction="0.0"/>
  </joint>
  <transmission name="j2s6s200_joint_3_trans">
    <type>transmission_interface/SimpleTransmission</type>
    <joint name="j2s6s200_joint_3">
      <hardwareInterface>hardware_interface/EffortJointInterface</hardwareInterface>
    </joint>
    <actuator name="j2s6s200_joint_3_actuator">
      <hardwareInterface>hardware_interface/EffortJointInterface</hardwareInterface>
      <mechanicalReduction>160</mechanicalReduction>
    </actuator>
  </transmission>
  <link name="j2s6s200_link_4">
    <visual>
      <geometry>
        <mesh filename="package://kinova_description/meshes/wrist_spherical_1.dae"/>
      </geometry>
      <material name="carbon_fiber">
        <color rgba="0.3 0.3 0.3 1"/>
      </material>
    </visual>
    <visual>
      <geometry>
        <mesh filename="package://kinova_description/meshes/ring_small.dae"/>
      </geometry>
    </visual>
    <collision>
      <geometry>
        <mesh filename="package://kinova_description/meshes/wrist_spherical_1.dae"/>
      </geometry>
    </collision>
    <inertial>
      <mass value="0.463"/>
      <origin xyz="0 0.0028848942 -0.0541932613"/>
      <inertia ixx="0.0004321316048" ixy="0" ixz="0" iyy="0.0004321316048" iyz="0" izz="9.26e-05"/>
    </inertial>
  </link>
  <joint name="j2s6s200_joint_4" type="revolute"><!-- continuous -->
    <parent link="j2s6s200_link_3"/>
    <child link="j2s6s200_link_4"/>
    <axis xyz="0 0 1"/>
    <limit effort="20" lower="-6.28318530718" upper="6.28318530718" velocity="0.837758040957"/>
    <origin rpy="-1.57079632679 0 3.14159265359" xyz="0 0.2073 -0.0114"/>
    <dynamics damping="0.0" friction="0.0"/>
  </joint>
  <transmission name="j2s6s200_joint_4_trans">
    <type>transmission_interface/SimpleTransmission</type>
    <joint name="j2s6s200_joint_4">
      <hardwareInterface>hardware_interface/EffortJointInterface</hardwareInterface>
    </joint>
    <actuator name="j2s6s200_joint_4_actuator">
      <hardwareInterface>hardware_interface/EffortJointInterface</hardwareInterface>
      <mechanicalReduction>160</mechanicalReduction>
    </actuator>
  </transmission>
  <link name="j2s6s200_link_5">
    <visual>
      <geometry>
        <mesh filename="package://kinova_description/meshes/wrist_spherical_2.dae"/>
      </geometry>
      <material name="carbon_fiber">
        <color rgba="0.3 0.3 0.3 1"/>
      </material>
    </visual>
    <visual>
      <geometry>
        <mesh filename="package://kinova_description/meshes/ring_small.dae"/>
      </geometry>
    </visual>
    <collision>
      <geometry>
        <mesh filename="package://kinova_description/meshes/wrist_spherical_2.dae"/>
      </geometry>
    </collision>
    <inertial>
      <mass value="0.463"/>
      <origin xyz="0 0.0497208855 -0.0028562765"/>
      <inertia ixx="0.0004321316048" ixy="0" ixz="0" iyy="9.26e-05" iyz="0" izz="0.0004321316048"/>
    </inertial>
  </link>
  <joint name="j2s6s200_joint_5" type="revolute">
    <parent link="j2s6s200_link_4"/>
    <child link="j2s6s200_link_5"/>
    <axis xyz="0 0 1"/>
    <limit effort="20" lower="0.523598775598" upper="5.75958653158" velocity="0.837758040957"/>
    <origin rpy="1.57079632679 0 3.14159265359" xyz="0 0 -0.10375"/>
    <dynamics damping="0.0" friction="0.0"/>
  </joint>
  <transmission name="j2s6s200_joint_5_trans">
    <type>transmission_interface/SimpleTransmission</type>
    <joint name="j2s6s200_joint_5">
      <hardwareInterface>hardware_interface/EffortJointInterface</hardwareInterface>
    </joint>
    <actuator name="j2s6s200_joint_5_actuator">
      <hardwareInterface>hardware_interface/EffortJointInterface</hardwareInterface>
      <mechanicalReduction>160</mechanicalReduction>
    </actuator>
  </transmission>
  <link name="j2s6s200_link_6">
    <visual>
      <geometry>
        <mesh filename="package://kinova_description/meshes/hand_2finger.dae"/>
      </geometry>
      <material name="carbon_fiber">
        <color rgba="0.3 0.3 0.3 1"/>
      </material>
    </visual>
    <visual>
      <geometry>
        <mesh filename="package://kinova_description/meshes/ring_small.dae"/>
      </geometry>
    </visual>
    <collision>
      <geometry>
        <mesh filename="package://kinova_description/meshes/hand_2finger.dae"/>
      </geometry>
    </collision>
    <inertial>
      <mass value="0.99"/>
      <origin xyz="0 0 -0.06"/>
      <inertia ixx="0.0003453236187" ixy="0" ixz="0" iyy="0.0003453236187" iyz="0" izz="0.0005816"/>
    </inertial>
  </link>
  <joint name="j2s6s200_joint_6" type="revolute"><!-- revolute -->
    <parent link="j2s6s200_link_5"/>
    <child link="j2s6s200_link_6"/>
    <axis xyz="0 0 1"/>
    <limit effort="20" lower="-6.28318530718" upper="6.28318530718" velocity="0.837758040957"/>
    <origin rpy="-1.57079632679 0 3.14159265359" xyz="0 0.10375 0"/>
    <dynamics damping="0.0" friction="0.0"/>
  </joint>
  <transmission name="j2s6s200_joint_6_trans">
    <type>transmission_interface/SimpleTransmission</type>
    <joint name="j2s6s200_joint_6">
      <hardwareInterface>hardware_interface/EffortJointInterface</hardwareInterface>
    </joint>
    <actuator name="j2s6s200_joint_6_actuator">
      <hardwareInterface>hardware_interface/EffortJointInterface</hardwareInterface>
      <mechanicalReduction>160</mechanicalReduction>
    </actuator>
  </transmission>
  <link name="j2s6s200_end_effector">
    <inertial>
      <mass value="0.001"/>
      <inertia ixx="4.90e-07" ixy="0.0" ixz="0.0" iyy="4.90e-07" iyz="0.0" izz="4.90e-07"/>
      <!-- for a sphere: 2/5 m * r**2 -->
    </inertial>
  </link>
  <joint name="j2s6s200_joint_end_effector" type="fixed">
    <parent link="j2s6s200_link_6"/>
    <child link="j2s6s200_end_effector"/>
    <axis xyz="0 0 0"/>
    <limit effort="2000" lower="0" upper="0" velocity="1"/>
    <!-- <origin rpy="3.14159265359 0 1.57079632679" xyz="0 0 -0.1600"/> -->
    <origin rpy="3.14159265359 1.57079632679 0" xyz="0 0 -0.1600"/>
  </joint>
  <link name="j2s6s200_link_finger_1">
    <visual>
      <geometry>
        <mesh filename="package://kinova_description/meshes/finger_proximal.dae"/>
      </geometry>
      <material name="carbon_fiber">
        <color rgba="0.792156862745098 0.819607843137255 0.933333333333333 1"/>
      </material>
    </visual>
    <collision>
      <geometry>
        <mesh filename="package://kinova_description/meshes/finger_proximal.dae"/>
      </geometry>
    </collision>
    <inertial>
      <mass value="0.01"/>
      <origin xyz="0.022 0 0"/>
      <inertia ixx="7.8999684e-07" ixy="0" ixz="0" iyy="7.8999684e-07" iyz="0" izz="8e-08"/>
    </inertial>
  </link>
  <joint name="j2s6s200_joint_finger_1" type="fixed">
    <parent link="j2s6s200_link_6"/>
    <child link="j2s6s200_link_finger_1"/>
    <axis xyz="0 0 1"/>
    <origin rpy="-1.570796327 .649262481663582 1.57079632679490" xyz="-0.0025 0.03095 -0.11482"/>
    <limit effort="2" lower="0" upper="1.51" velocity="1"/>
  </joint>
  <transmission name="j2s6s200_joint_finger_1_trans">
    <type>transmission_interface/SimpleTransmission</type>
    <joint name="j2s6s200_joint_finger_1">
      <hardwareInterface>hardware_interface/EffortJointInterface</hardwareInterface>
    </joint>
    <actuator name="j2s6s200_joint_finger_1_actuator">
      <hardwareInterface>hardware_interface/EffortJointInterface</hardwareInterface>
      <mechanicalReduction>1</mechanicalReduction>
    </actuator>
  </transmission>
  <link name="j2s6s200_link_finger_tip_1">
    <visual>
      <geometry>
        <mesh filename="package://kinova_description/meshes/finger_distal.dae"/>
      </geometry>
      <material name="carbon_fiber">
        <color rgba="0.792156862745098 0.819607843137255 0.933333333333333 1"/>
      </material>
    </visual>
    <collision>
      <geometry>
        <mesh filename="package://kinova_description/meshes/finger_distal.dae"/>
      </geometry>
    </collision>
    <inertial>
      <mass value="0.01"/>
      <origin xyz="0.022 0 0"/>
      <inertia ixx="7.8999684e-07" ixy="0" ixz="0" iyy="7.8999684e-07" iyz="0" izz="8e-08"/>
    </inertial>
  </link>
  <joint name="j2s6s200_joint_finger_tip_1" type="fixed">
    <parent link="j2s6s200_link_finger_1"/>
    <child link="j2s6s200_link_finger_tip_1"/>
    <axis xyz="0 0 1"/>
    <origin rpy="0 0 0" xyz="0.044 -0.003 0"/>
    <limit effort="2" lower="0" upper="2" velocity="1"/>
  </joint>
  <transmission name="j2s6s200_joint_finger_tip_1_trans">
    <type>transmission_interface/SimpleTransmission</type>
    <joint name="j2s6s200_joint_finger_tip_1">
      <hardwareInterface>hardware_interface/EffortJointInterface</hardwareInterface>
    </joint>
    <actuator name="j2s6s200_joint_finger_tip_1_actuator">
      <hardwareInterface>hardware_interface/EffortJointInterface</hardwareInterface>
      <mechanicalReduction>1</mechanicalReduction>
    </actuator>
  </transmission>
  <link name="j2s6s200_link_finger_2">
    <visual>
      <geometry>
        <mesh filename="package://kinova_description/meshes/finger_proximal.dae"/>
      </geometry>
      <material name="carbon_fiber">
        <color rgba="0.792156862745098 0.819607843137255 0.933333333333333 1"/>
      </material>
    </visual>
    <collision>
      <geometry>
        <mesh filename="package://kinova_description/meshes/finger_proximal.dae"/>
      </geometry>
    </collision>
    <inertial>
      <mass value="0.01"/>
      <origin xyz="0.022 0 0"/>
      <inertia ixx="7.8999684e-07" ixy="0" ixz="0" iyy="7.8999684e-07" iyz="0" izz="8e-08"/>
    </inertial>
  </link>
  <joint name="j2s6s200_joint_finger_2" type="fixed">
    <parent link="j2s6s200_link_6"/>
    <child link="j2s6s200_link_finger_2"/>
    <axis xyz="0 0 1"/>
    <origin rpy="-1.570796327 .649262481663582 -1.57079632679490" xyz="-0.0025 -0.03095 -0.11482"/>
    <limit effort="2" lower="0" upper="1.51" velocity="1"/>
  </joint>
  <transmission name="j2s6s200_joint_finger_2_trans">
    <type>transmission_interface/SimpleTransmission</type>
    <joint name="j2s6s200_joint_finger_2">
      <hardwareInterface>hardware_interface/EffortJointInterface</hardwareInterface>
    </joint>
    <actuator name="j2s6s200_joint_finger_2_actuator">
      <hardwareInterface>hardware_interface/EffortJointInterface</hardwareInterface>
      <mechanicalReduction>1</mechanicalReduction>
    </actuator>
  </transmission>
  <link name="j2s6s200_link_finger_tip_2">
    <visual>
      <geometry>
        <mesh filename="package://kinova_description/meshes/finger_distal.dae"/>
      </geometry>
      <material name="carbon_fiber">
        <color rgba="0.792156862745098 0.819607843137255 0.933333333333333 1"/>
      </material>
    </visual>
    <collision>
      <geometry>
        <mesh filename="package://kinova_description/meshes/finger_distal.dae"/>
      </geometry>
    </collision>
    <inertial>
      <mass value="0.01"/>
      <origin xyz="0.022 0 0"/>
      <inertia ixx="7.8999684e-07" ixy="0" ixz="0" iyy="7.8999684e-07" iyz="0" izz="8e-08"/>
    </inertial>
  </link>
  <joint name="j2s6s200_joint_finger_tip_2" type="fixed">
    <parent link="j2s6s200_link_finger_2"/>
    <child link="j2s6s200_link_finger_tip_2"/>
    <axis xyz="0 0 1"/>
    <origin rpy="0 0 0" xyz="0.044 -0.003 0"/>
    <limit effort="2" lower="0" upper="2" velocity="1"/>
  </joint>
  <transmission name="j2s6s200_joint_finger_tip_2_trans">
    <type>transmission_interface/SimpleTransmission</type>
    <joint name="j2s6s200_joint_finger_tip_2">
      <hardwareInterface>hardware_interface/EffortJointInterface</hardwareInterface>
    </joint>
    <actuator name="j2s6s200_joint_finger_tip_2_actuator">
      <hardwareInterface>hardware_interface/EffortJointInterface</hardwareInterface>
      <mechanicalReduction>1</mechanicalReduction>
    </actuator>
  </transmission>
</robot>
